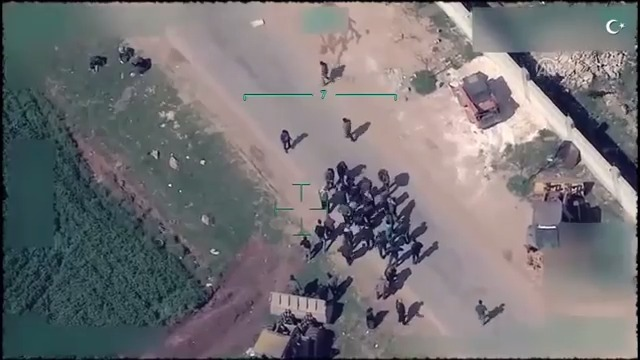insan: (337, 112, 360, 144), (276, 121, 296, 155), (297, 229, 314, 266), (315, 56, 332, 90), (314, 219, 330, 252), (471, 297, 488, 325), (411, 235, 425, 267), (359, 222, 376, 248), (393, 298, 409, 325), (364, 304, 379, 329), (324, 166, 339, 190), (339, 160, 352, 187)
